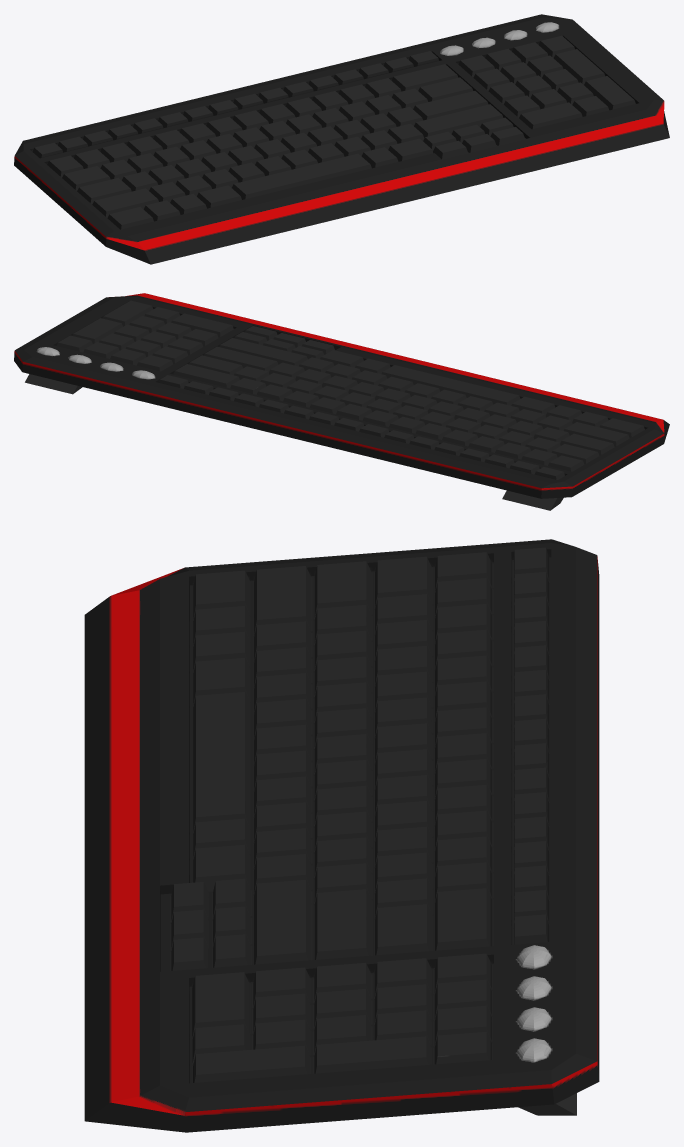
The model's file is Keyboard2.fbx.
The picture shows the model from 3 angles, top to bottom: view 1: azimuth 30°, elevation 25°; view 2: azimuth 150°, elevation 25°; view 3: azimuth 270°, elevation 25°; orthographic projection. The views are drawn at different scales.
Visible parts, largest first — view 1: Keyboard2Baked; view 2: Keyboard2Baked; view 3: Keyboard2Baked.
Boxes of the visible parts, bbox=[...] form: Keyboard2Baked: bbox=[14, 14, 669, 264]; Keyboard2Baked: bbox=[14, 293, 669, 510]; Keyboard2Baked: bbox=[84, 539, 599, 1132].
Bounding box in the file's own units: 316 × 18.48 × 126.
